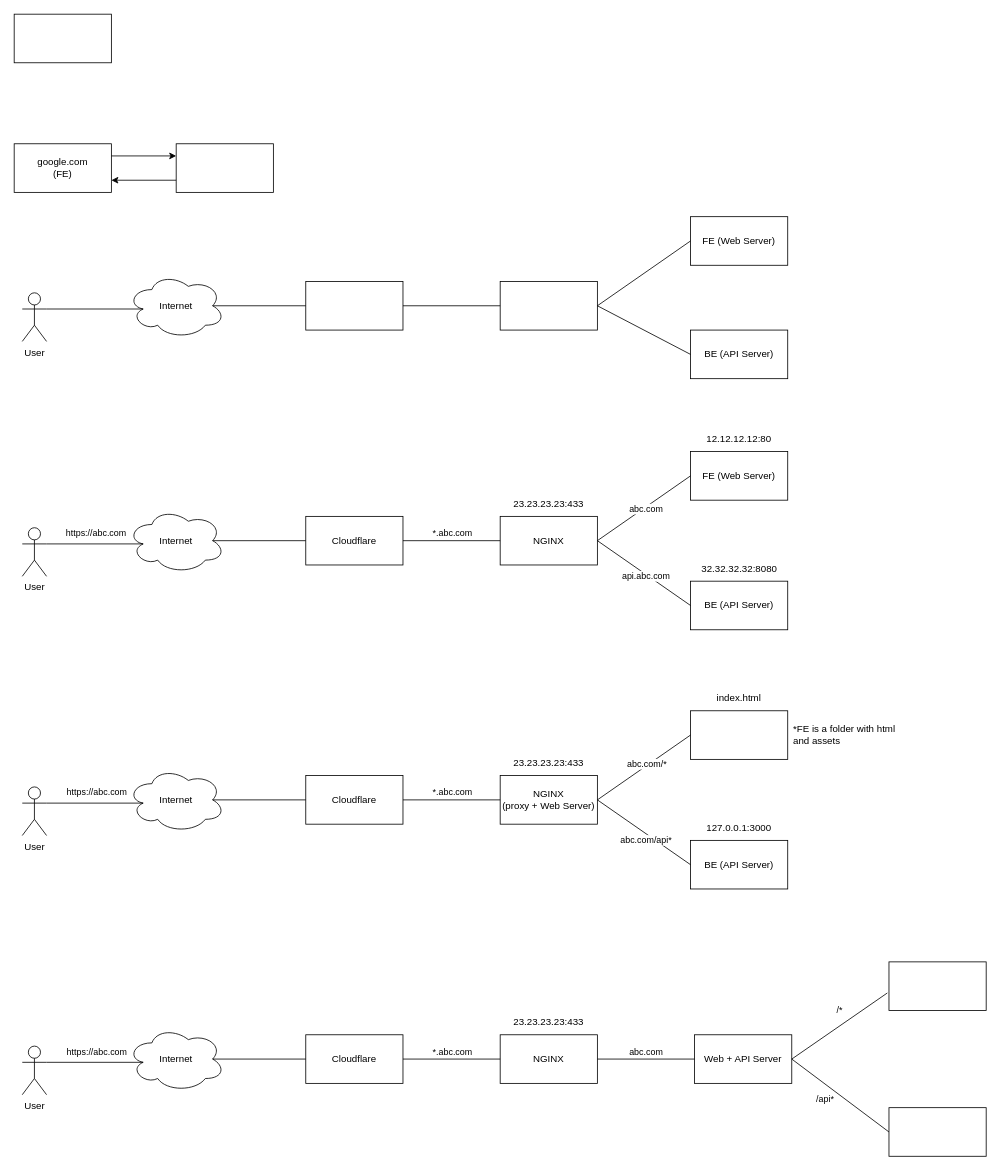
Image size: 1000x1170. Some labels were removed from this diagram. Each missing label, with the centre of its shape:
API: the point at 937,1131
apis.google.com (BE): the point at 224,167
DNS: the point at 354,305
FE: the point at 739,734
mcmapp.online (FE + BE): the point at 62,38
Proxy: the point at 548,305
Web: the point at 937,985
